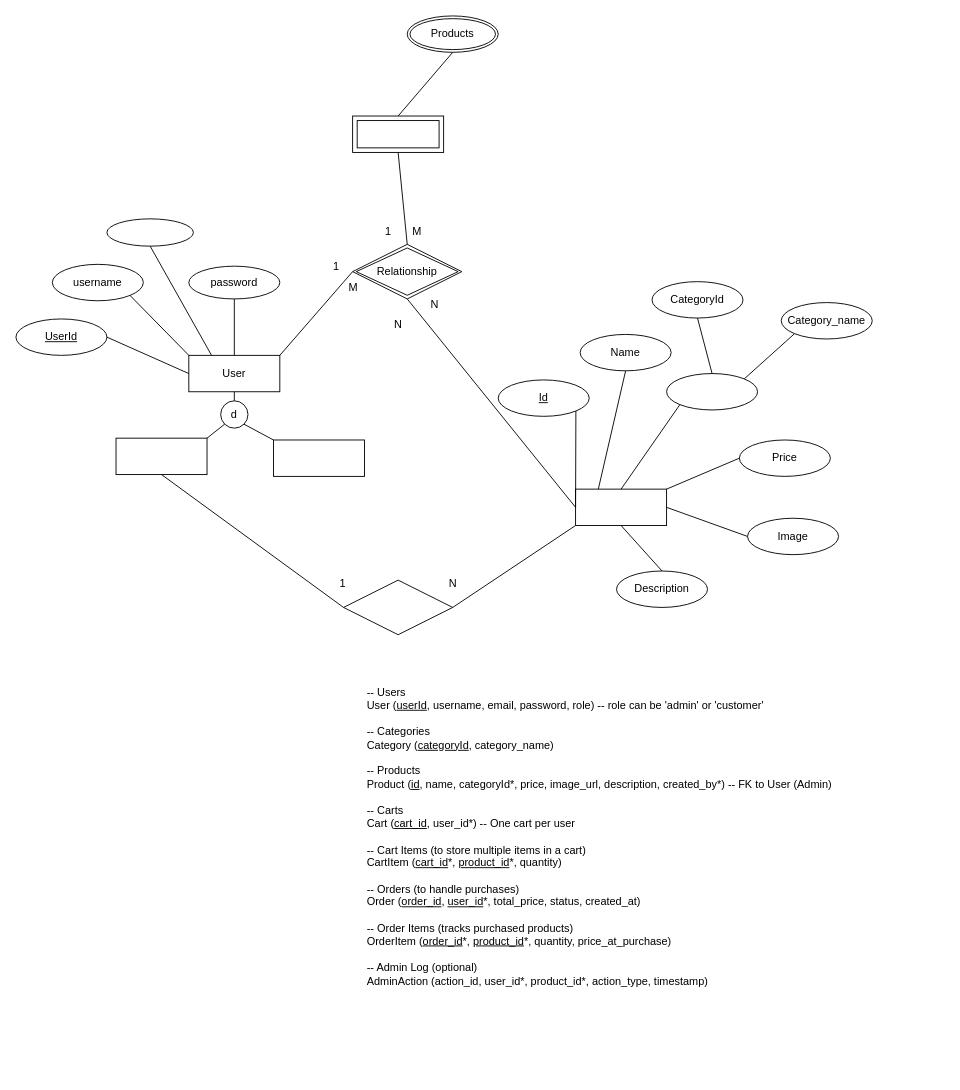
The diagram is 960 pixels wide and 1090 high, and some of its shapes have lost their labels. The shapes that lost their labels are listed below. From the top down, each one's box as (x1, y1, x2, y2) in pixels, then its label:
(352, 115, 444, 152): Shopping_cart
(106, 218, 193, 246): email
(666, 373, 758, 410): Category
(115, 437, 207, 475): Admin_user
(273, 439, 364, 476): Customer
(575, 488, 667, 526): Product
(343, 579, 453, 635): Creates
